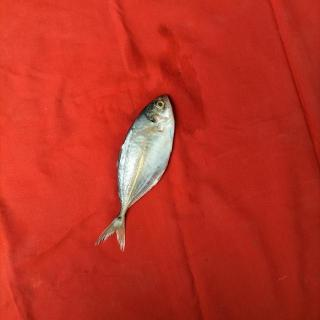Ikan: (87, 75, 201, 241)
